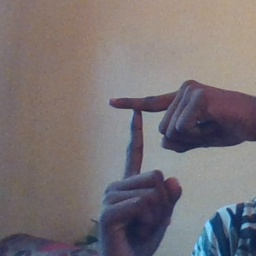T: (92, 77, 193, 197)
